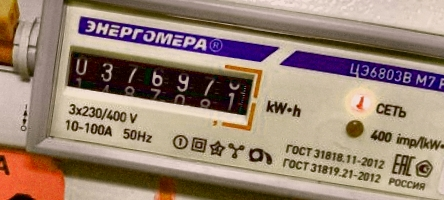0: (71, 53, 90, 76)
1: (223, 89, 237, 112)
3: (97, 58, 114, 83)
6: (149, 64, 165, 87)
7: (123, 59, 139, 85), (199, 73, 215, 97)
9: (174, 69, 190, 92)
screen: (54, 37, 265, 134)
